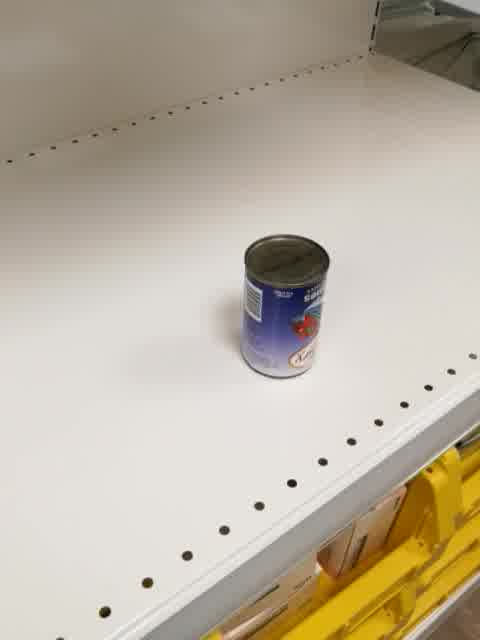sardine: (239, 234, 330, 381)
